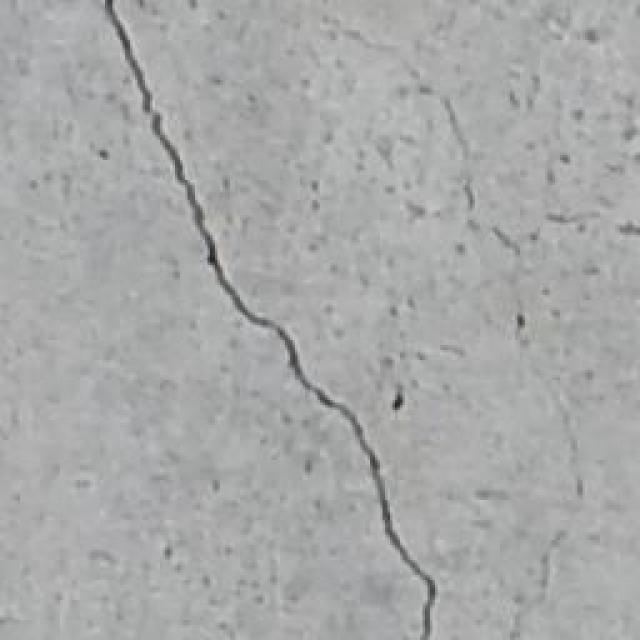concrete-crack: (102, 0, 435, 640), (333, 17, 637, 634)
